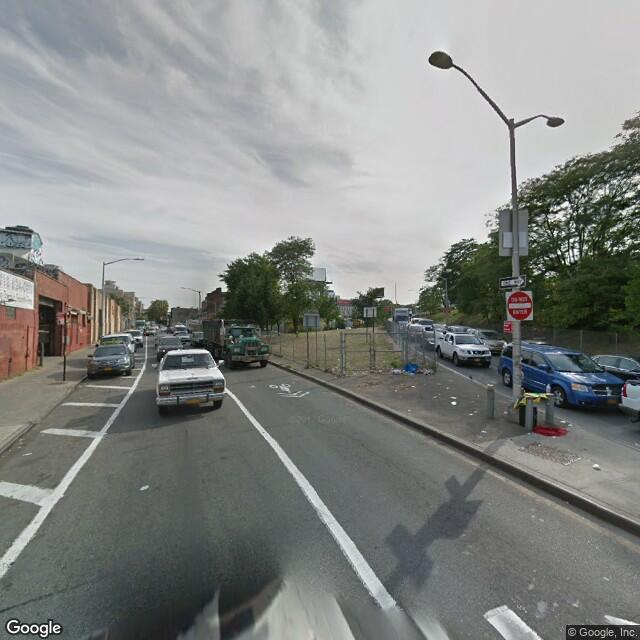litter: (386, 356, 447, 377), (518, 388, 549, 411), (533, 426, 575, 438)
